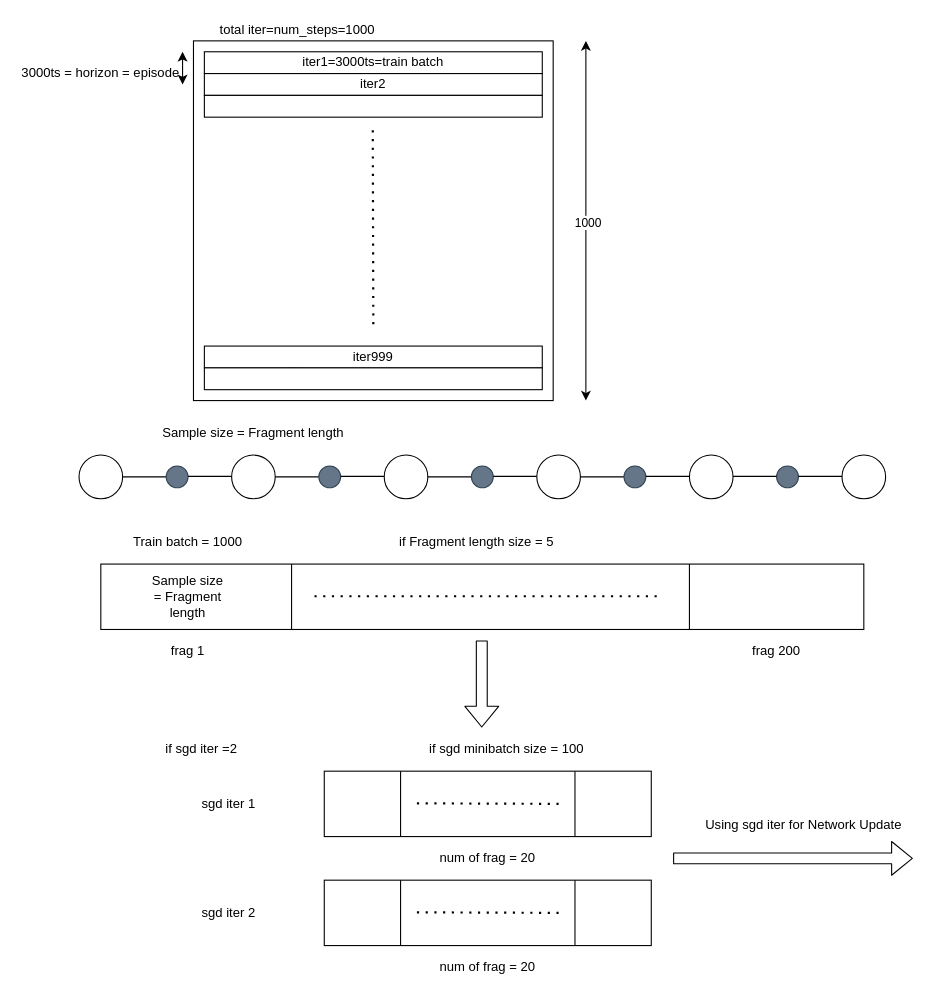
This 931x996 diagram has some shape labels left out. The centre of each missing label's shape, as x and y in pixels:
iter1000: (372,378)
iter3: (372,105)
